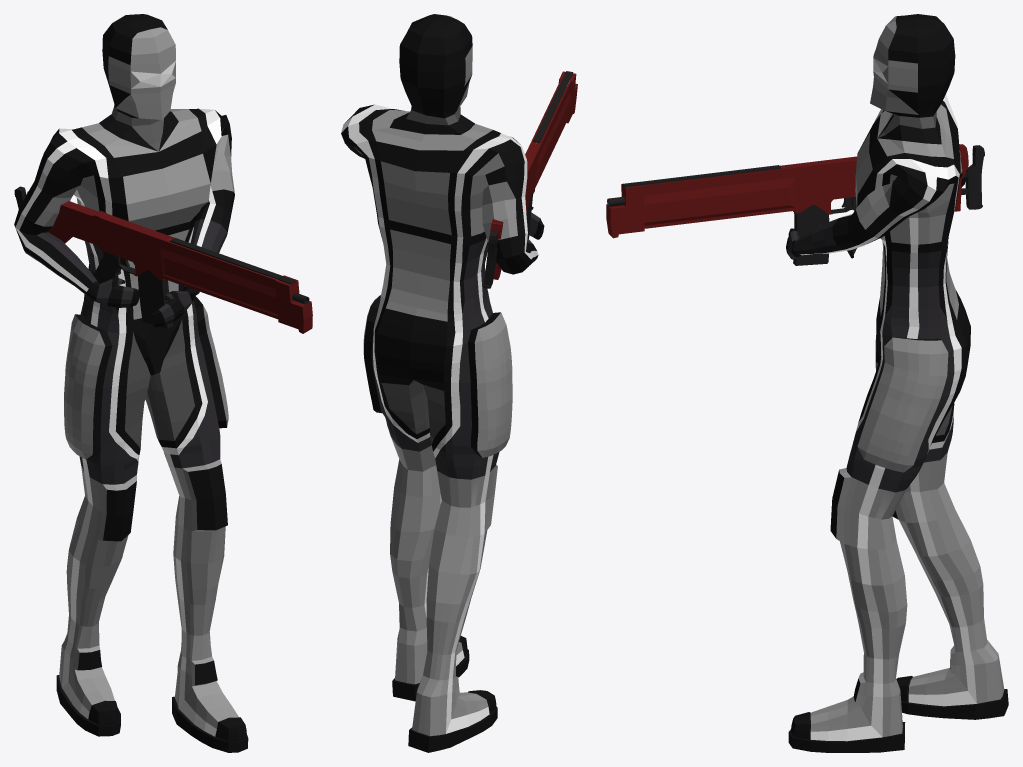
File: TKI1.obj
The picture shows the model from 3 angles, left to right: view 1: azimuth 30°, elevation 25°; view 2: azimuth 150°, elevation 25°; view 3: azimuth 270°, elevation 25°; orthographic projection. The views are drawn at different scales.
Visible parts, largest first — view 1: metarig_object_metarig_mesh, Cube.001; view 2: metarig_object_metarig_mesh, Cube.001; view 3: metarig_object_metarig_mesh, Cube.001.
Part boxes in pixels (x1,y1,x2,y2): metarig_object_metarig_mesh: (14,14,248,752); Cube.001: (14,186,312,333); metarig_object_metarig_mesh: (341,14,544,752); Cube.001: (483,71,577,288); metarig_object_metarig_mesh: (786,14,1008,752); Cube.001: (606,144,984,265).
Bounding box in the file's own units: 0.5066 × 1.73 × 0.8896.
Materials: 2 (2 with a texture image).
